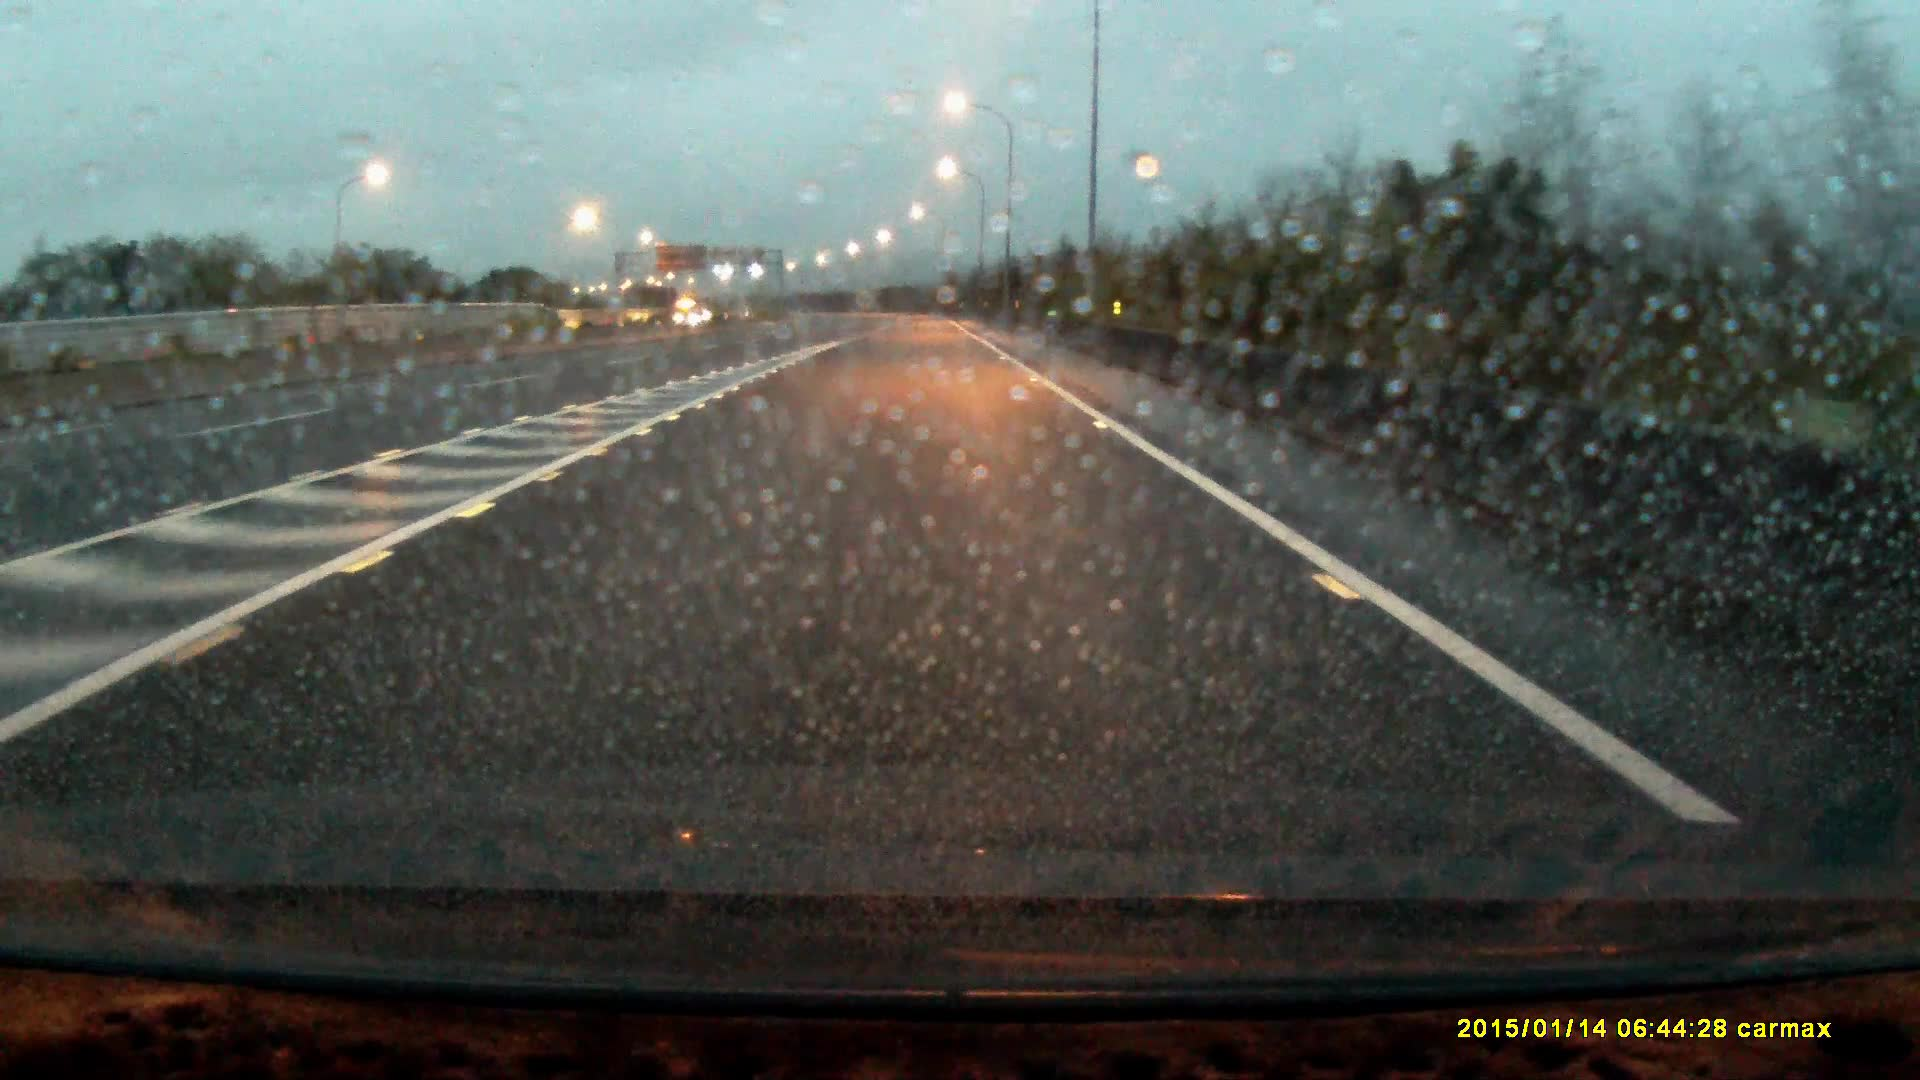vehicle: (674, 297, 705, 326)
